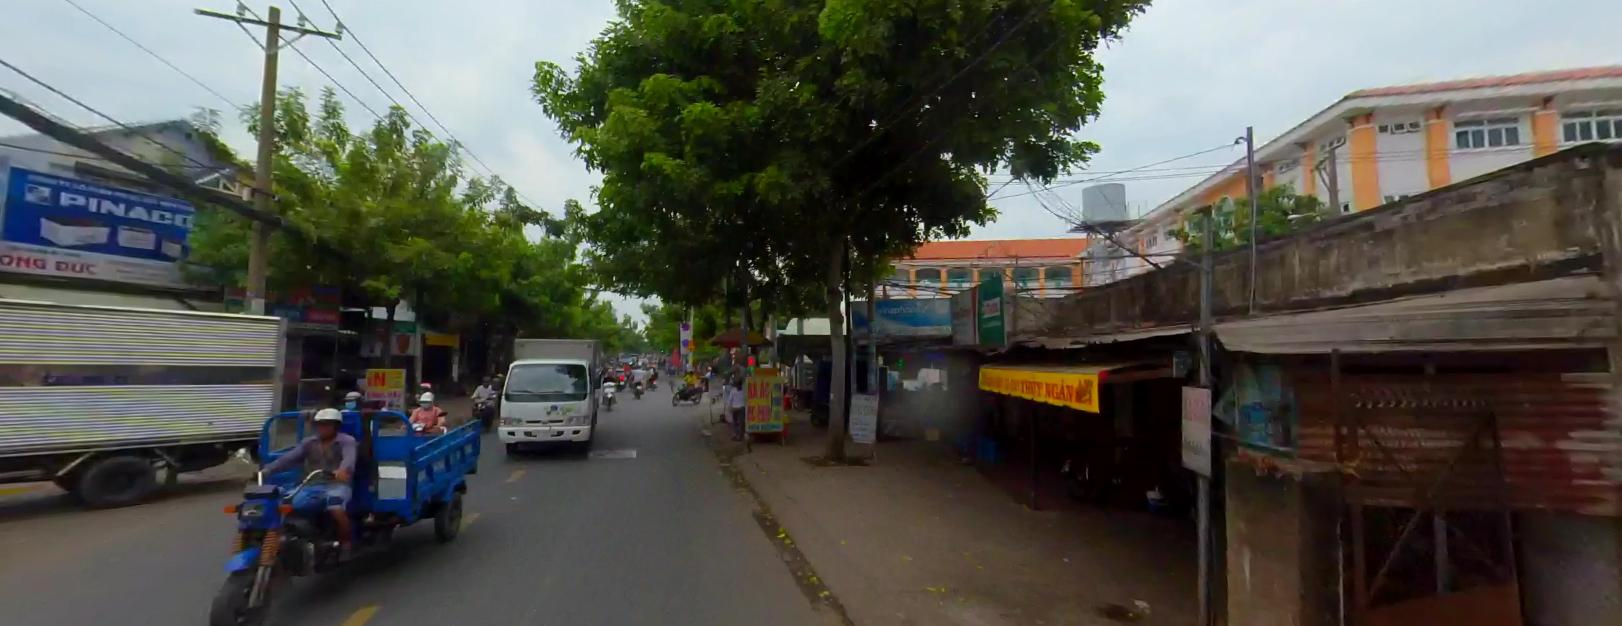Cam dung va do: (682, 321, 690, 329), (682, 337, 689, 345)
Nguy hiem: (687, 338, 695, 346)
